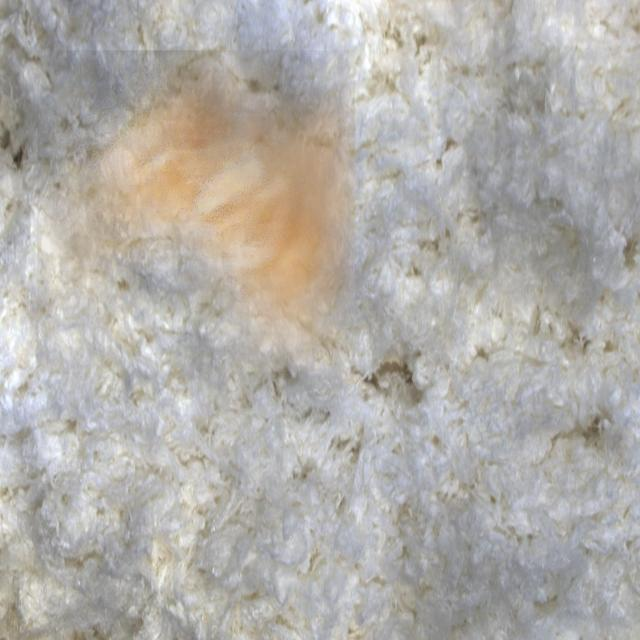dust: (37, 50, 355, 372)
